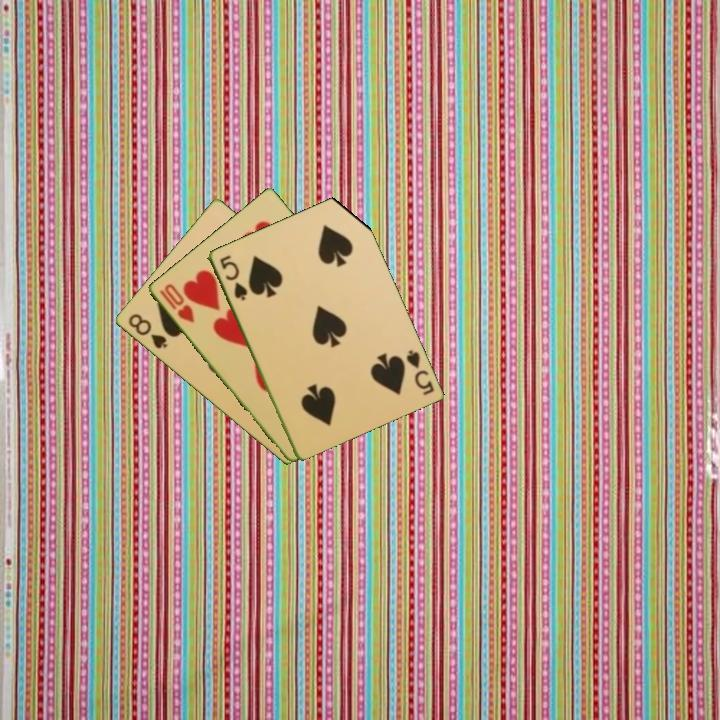10h: (155, 280, 197, 326)
5s: (215, 251, 250, 303), (402, 346, 437, 398)
8s: (124, 310, 170, 352)
